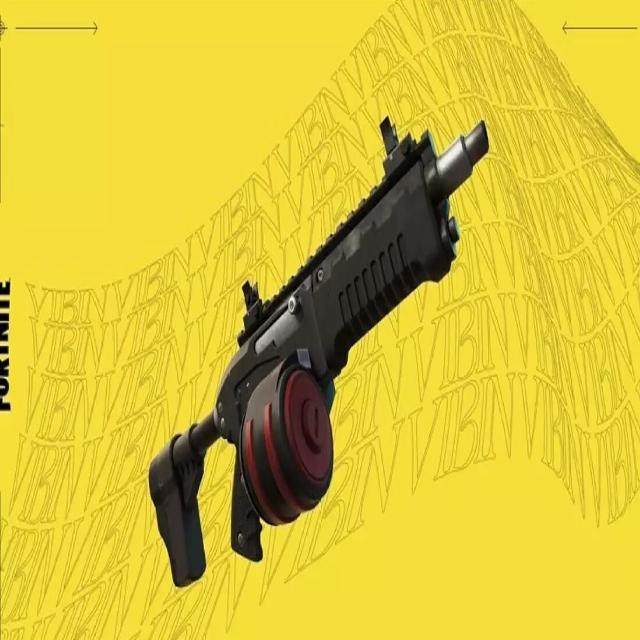Weapon: (149, 118, 488, 586)
